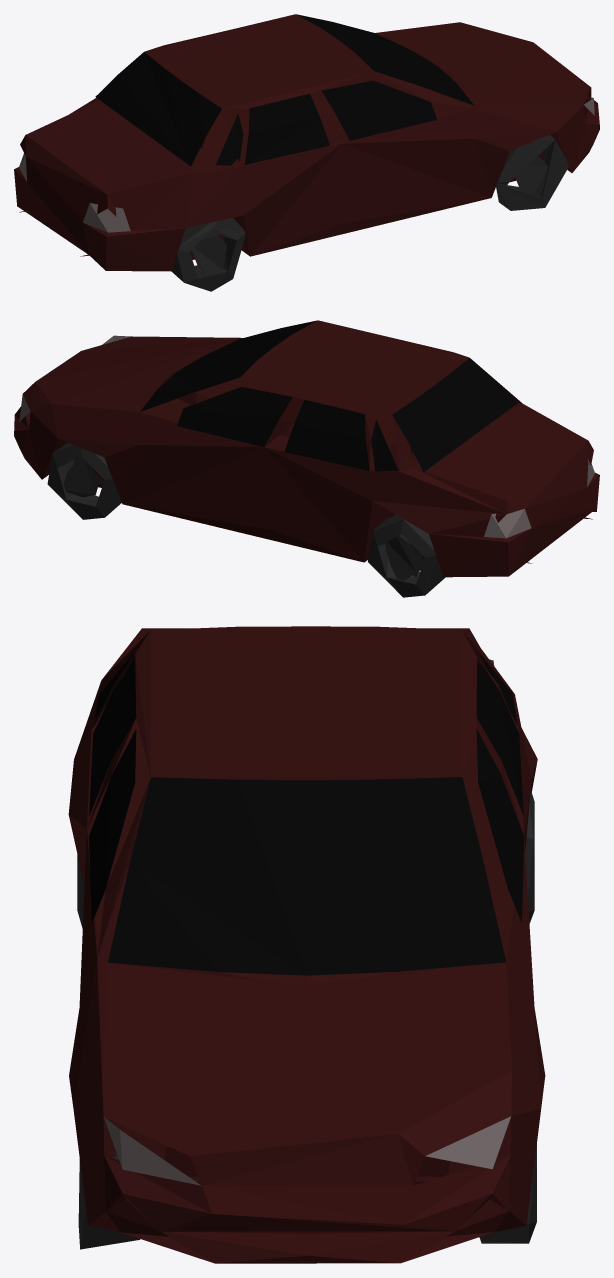
File: pc-sedan-maroon.lod2.glb
3 views of the same model, one above another, from view 1: azimuth 30°, elevation 25°; view 2: azimuth 150°, elevation 25°; view 3: azimuth 270°, elevation 25° (orthographic). The views are drawn at different scales.
Parts seen in each view (by area): view 1: Sedan Body_Body_0; view 2: Sedan Body_Body_0; view 3: Sedan Body_Body_0.
Boxes of the visible parts, bbox=[...] form: Sedan Body_Body_0: bbox=[14, 14, 599, 291]; Sedan Body_Body_0: bbox=[14, 320, 599, 597]; Sedan Body_Body_0: bbox=[68, 626, 545, 1263].
Size of the model in its own units: 4.34 by 1.29 by 1.68.
